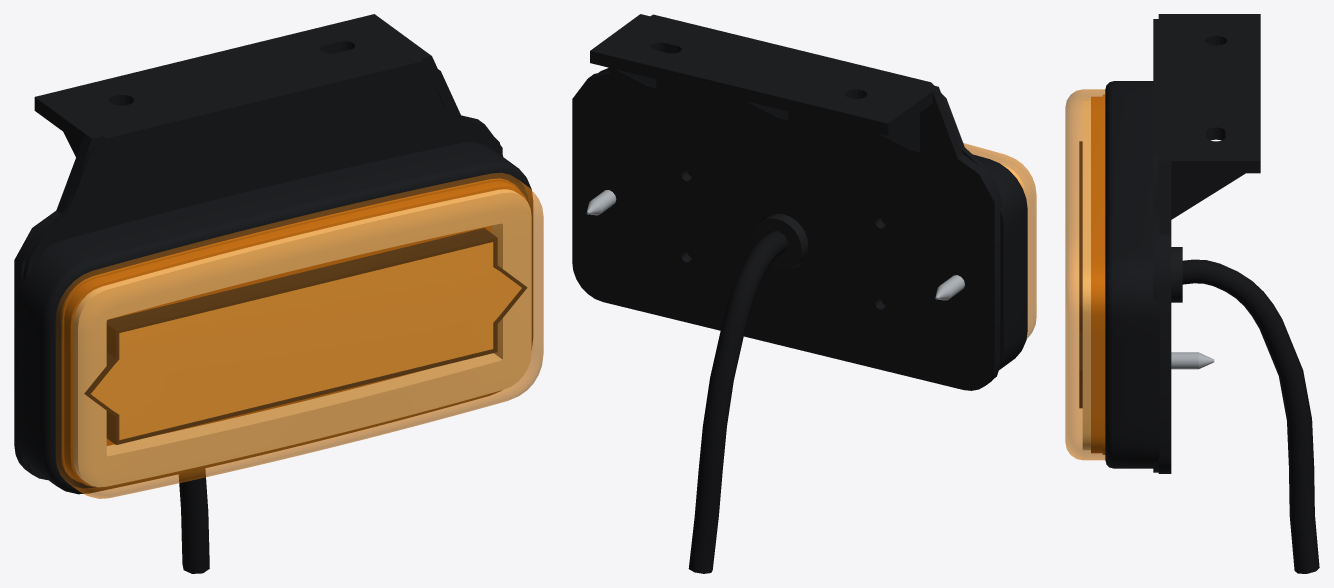
The model's file is lamp-ld2765.glb.
3 renders of one model, left to right at view 1: azimuth 30°, elevation 25°; view 2: azimuth 150°, elevation 25°; view 3: azimuth 270°, elevation 25°, orthographic. The views are drawn at different scales.
Visible parts, largest first — view 1: LENS, BODY, INNER, EMIT.marker; view 2: BODY, LENS; view 3: BODY, LENS, INNER, EMIT.marker.
Part boxes in pixels (<box>): LENS: <box>56,173,543,498</box>; BODY: <box>14,14,532,573</box>; INNER: <box>61,178,527,486</box>; EMIT.marker: <box>73,189,531,487</box>; BODY: <box>572,14,1027,573</box>; LENS: <box>963,143,1036,338</box>; BODY: <box>1105,14,1319,573</box>; LENS: <box>1065,89,1105,460</box>; INNER: <box>1079,94,1105,454</box>; EMIT.marker: <box>1082,99,1090,450</box>.
Bounding box in the file's own units: 0.1108 × 0.1161 × 0.0562.
